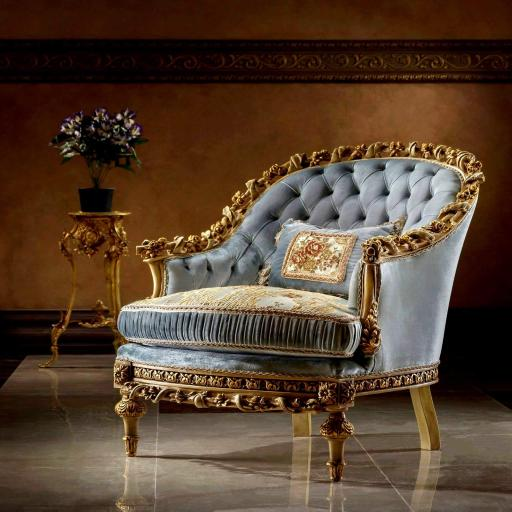chair: (114, 141, 485, 480)
desk: (38, 211, 131, 367)
wall: (0, 0, 512, 354)
